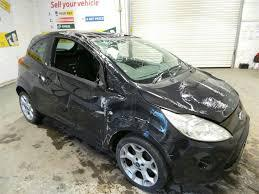Front-Windscreen-Damage: (99, 35, 178, 71)
bonnet-dent: (148, 76, 232, 117)
fender-dent: (105, 96, 166, 140)
pillar-dent: (89, 44, 125, 90)
roof-dent: (46, 28, 108, 45)
